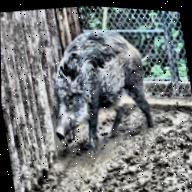boar: (38, 9, 161, 159)
